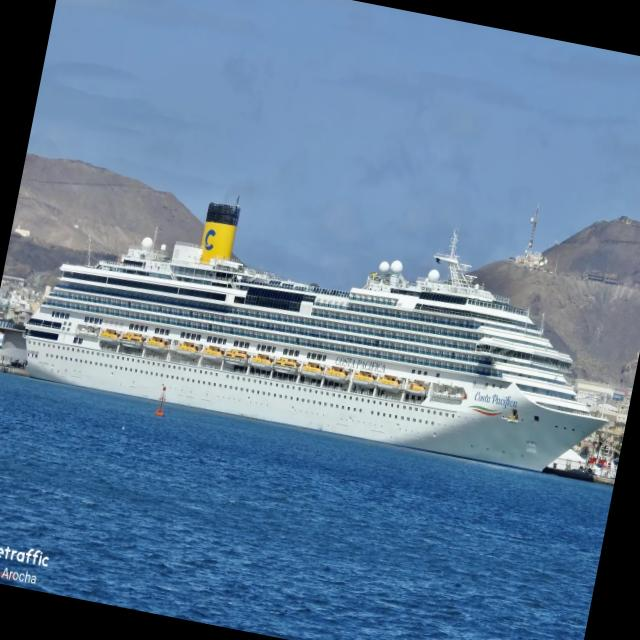Cruise: (16, 203, 605, 471)
